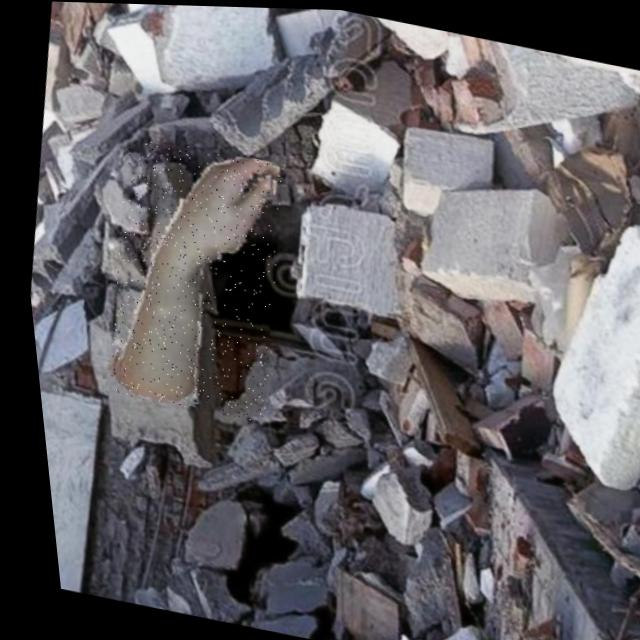Person in Rubble: (79, 131, 300, 422)
